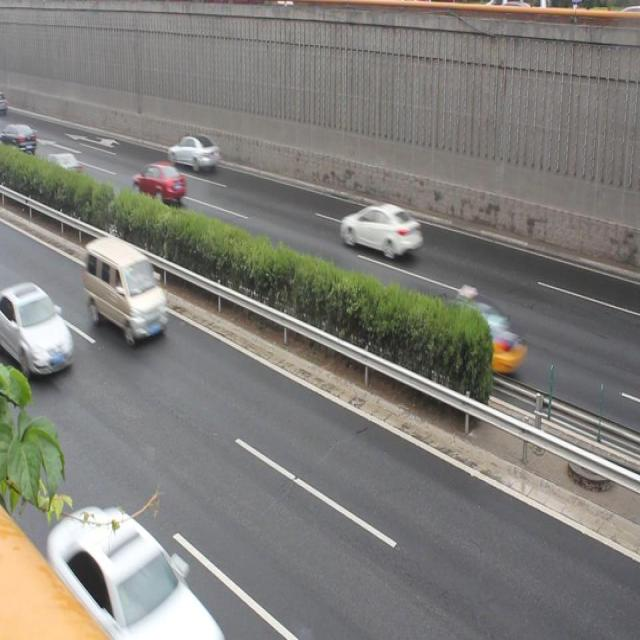car: (49, 501, 222, 640), (401, 296, 524, 370), (0, 282, 72, 378), (342, 203, 420, 257), (133, 160, 185, 204), (168, 134, 220, 175), (44, 153, 81, 186)
truck: (85, 239, 166, 338)
